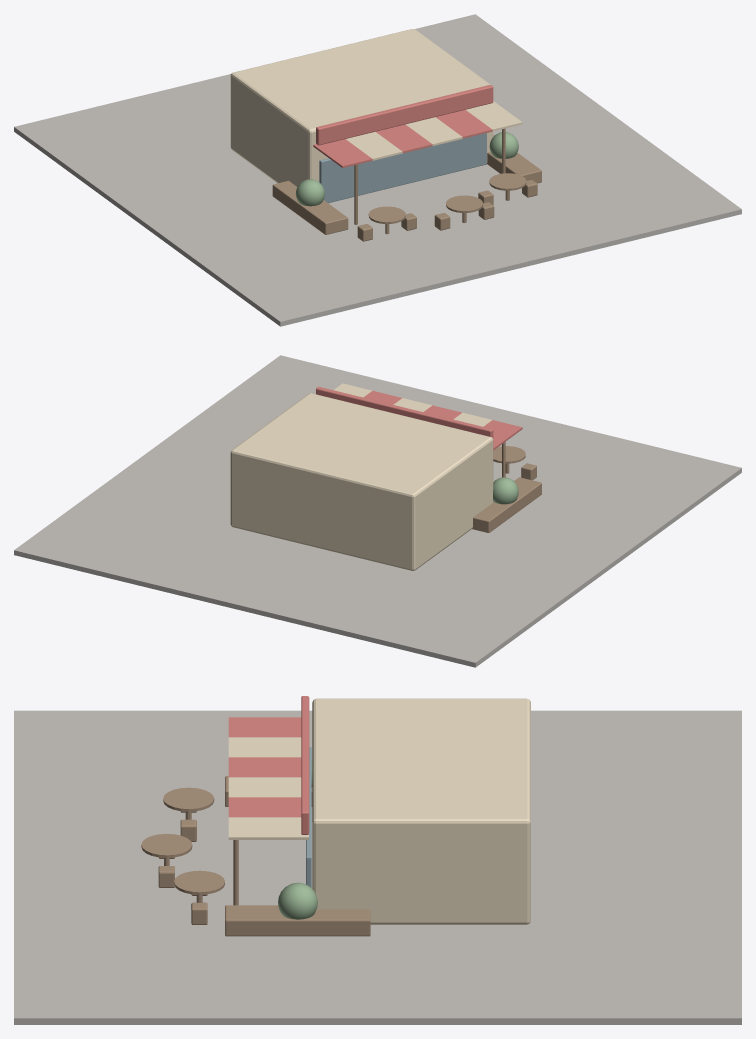
Rendered from dining.glb.
The picture shows the model from 3 angles, top to bottom: view 1: azimuth 30°, elevation 25°; view 2: azimuth 150°, elevation 25°; view 3: azimuth 270°, elevation 25°; orthographic projection. The views are drawn at different scales.
Visible parts, largest first — view 1: Ground, Restaurant, Storefront, SignBand, Planter0, Awning0, Awning5, Awning1, Awning2, Awning4, Awning3, Planter1 (+5 smaller); view 2: Ground, Restaurant, SignBand, Planter0, Shrub0, Awning0; view 3: Ground, Restaurant, Planter1, Awning5, Awning0, Awning1, Awning2, Awning3, Awning4, SignBand, Shrub1, Table0 (+3 smaller).
Part boxes in pixels (box(x1,y1,x2,y2)): Ground: box(14, 14, 741, 326); Restaurant: box(230, 29, 493, 186); Storefront: box(319, 133, 486, 203); SignBand: box(316, 85, 493, 145); Planter0: box(272, 180, 348, 234); Awning0: box(313, 139, 372, 167); Awning5: box(466, 101, 522, 131); Awning1: box(346, 131, 402, 160); Awning2: box(376, 124, 432, 153); Awning4: box(436, 109, 492, 138); Awning3: box(406, 117, 462, 145); Planter1: box(487, 135, 541, 183); Ground: box(14, 355, 741, 667); Restaurant: box(230, 393, 493, 570); SignBand: box(316, 387, 493, 438); Planter0: box(472, 477, 541, 532); Shrub0: box(493, 477, 518, 504); Awning0: box(483, 420, 522, 450); Ground: box(14, 710, 741, 1024); Restaurant: box(312, 698, 530, 924); Planter1: box(225, 905, 370, 936); Awning5: box(228, 817, 308, 839); Awning0: box(228, 717, 301, 737); Awning1: box(228, 737, 301, 757); Awning2: box(228, 757, 301, 777); Awning3: box(228, 777, 301, 797); Awning4: box(228, 797, 301, 817); SignBand: box(301, 696, 309, 834); Shrub1: box(278, 882, 317, 919); Table0: box(163, 787, 214, 811).
Bounding box in the file's own units: 20 × 3.55 × 20.
